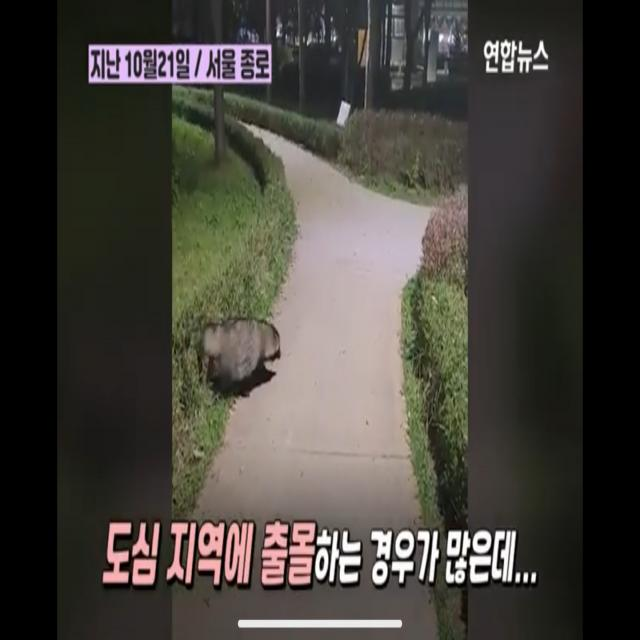racoon: (194, 308, 281, 410)
